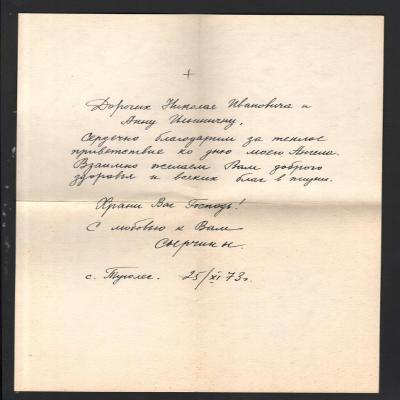document: (14, 13, 385, 394)
